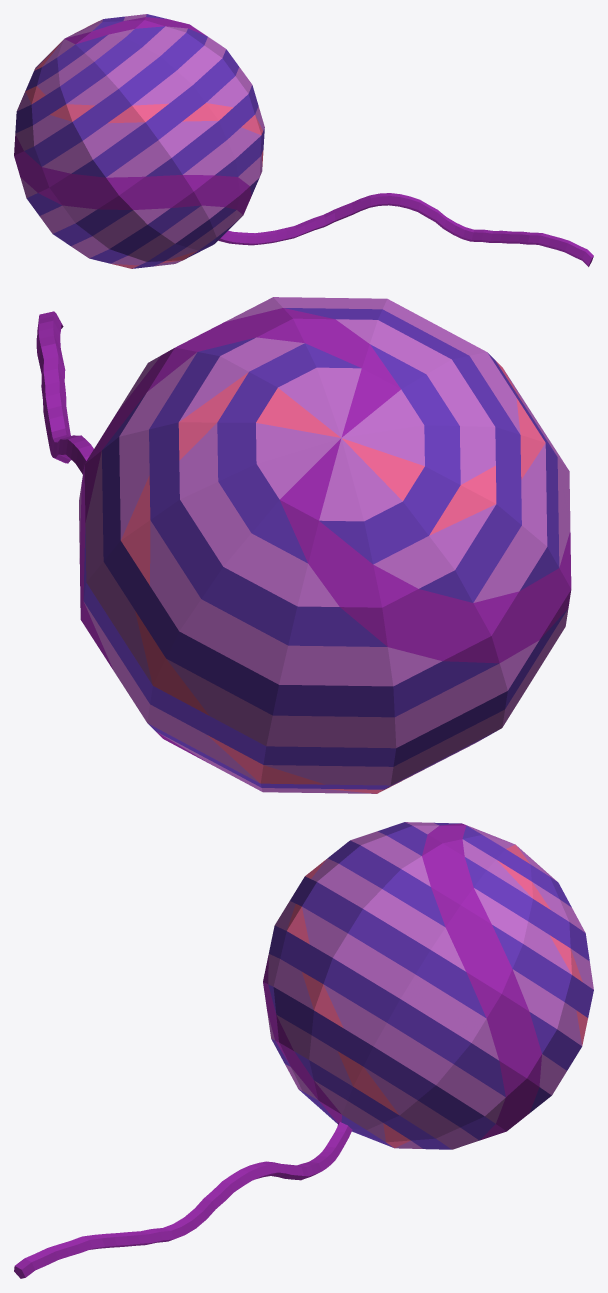
File: yarn-ball-sirkitree_0kSphuYy8Or.glb
The picture shows the model from 3 angles, top to bottom: view 1: azimuth 30°, elevation 25°; view 2: azimuth 150°, elevation 25°; view 3: azimuth 270°, elevation 25°; orthographic projection. The views are drawn at different scales.
Visible parts, largest first — view 1: group1970492613, group1337943959; view 2: group1970492613, group1337943959; view 3: group1970492613, group1337943959.
Part boxes in pixels (<box>): group1970492613: <box>14,14,264,268</box>; group1337943959: <box>218,193,593,266</box>; group1970492613: <box>79,297,571,793</box>; group1337943959: <box>36,311,93,474</box>; group1970492613: <box>263,822,593,1149</box>; group1337943959: <box>14,1122,352,1278</box>.
Size of the model in its own units: 1.07 by 0.5752 by 1.01.
